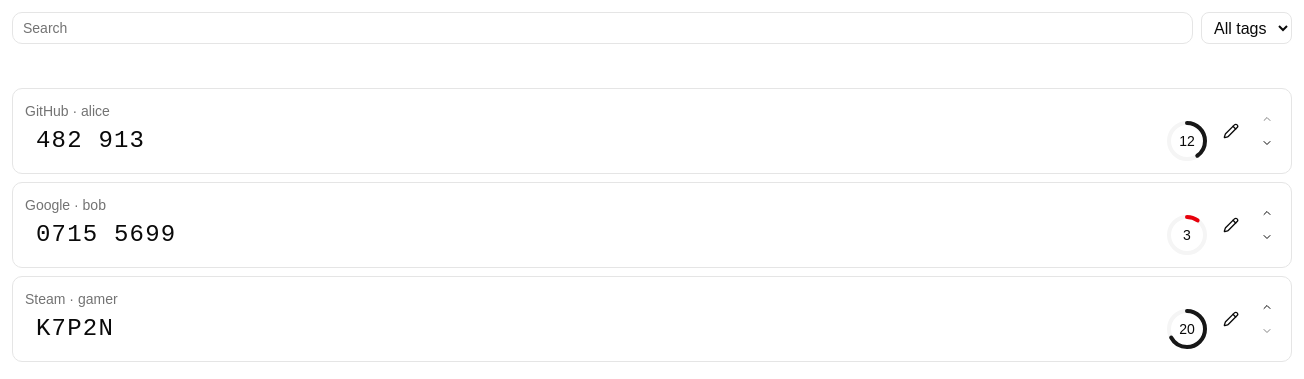
Test: EntryList › filters by tag
Expected: the text "GitHub · alice" is shown, [25, 103, 110, 119]
Select "work" in the dropdown named "Filter by tag" at [1246, 28], box [1201, 12, 1292, 44]
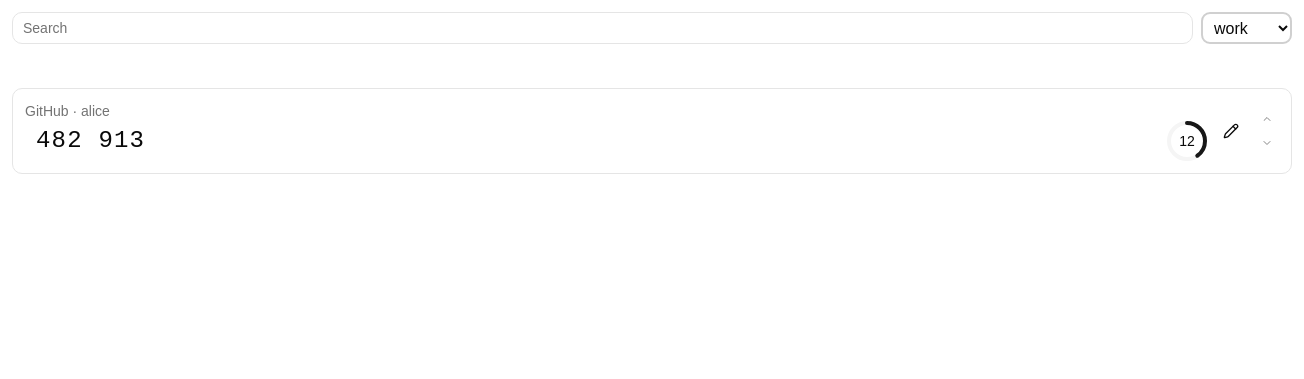
Expected: the text "GitHub · alice" is shown, [25, 103, 110, 119]
Result: the text "Google" is gone
